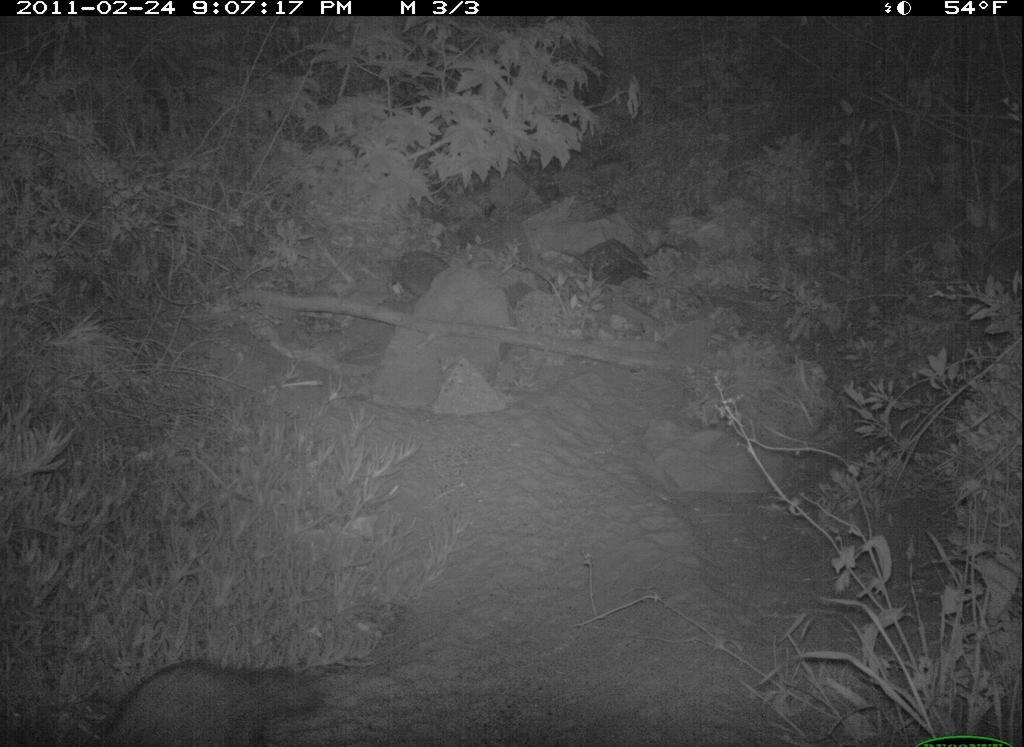raccoon: (81, 625, 323, 747)
